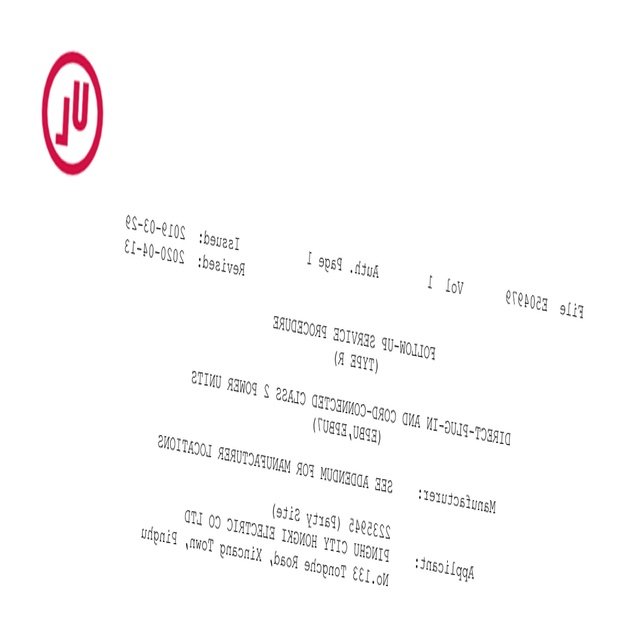ul: (42, 49, 105, 175)
